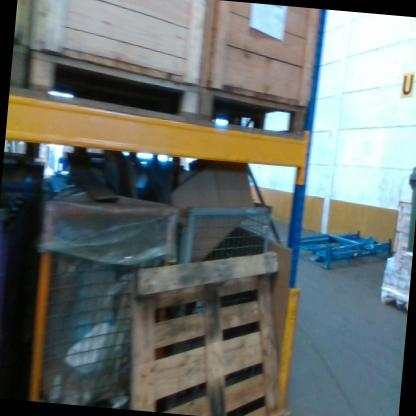pallet: (122, 238, 305, 416), (392, 200, 412, 256)
stillage: (25, 173, 183, 413), (176, 193, 273, 271)
